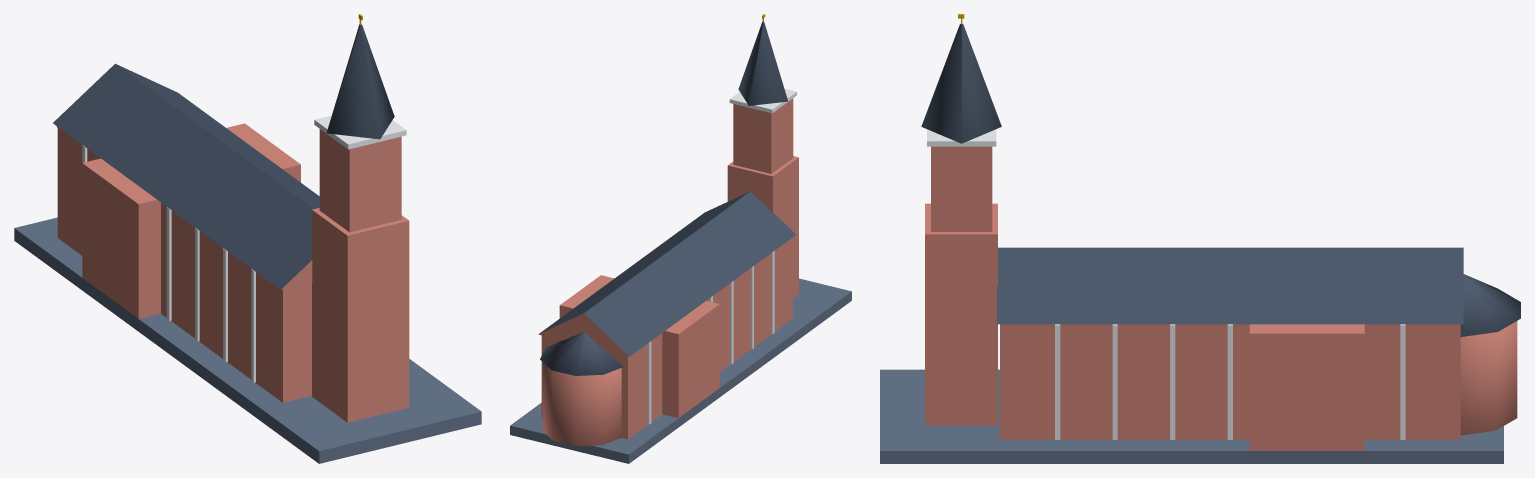
The model's file is lm_03_nha_tho_con_ga_base.glb.
3 renders of one model, left to right at view 1: azimuth 30°, elevation 25°; view 2: azimuth 150°, elevation 25°; view 3: azimuth 270°, elevation 25°, orthographic. The views are drawn at different scales.
Parts seen in each view (by area): view 1: nave_roof_slope_l, belfry_lower, nave_body, stone_plinth, transept_body, belfry_upper, belfry_spire, nave_roof_slope_r, belfry_cornice, pilaster_w_-4, pilaster_w_2, pilaster_w_8 (+1 smaller); view 2: nave_roof_slope_l, nave_body, stone_plinth, transept_body, apse_body, belfry_upper, belfry_lower, belfry_spire, apse_roof, nave_roof_slope_r, nave_roof_gable_b, belfry_cornice (+1 smaller); view 3: nave_body, nave_roof_slope_r, stone_plinth, transept_body, belfry_lower, apse_body, belfry_upper, belfry_spire, apse_roof, belfry_cornice, pilaster_e_-22, pilaster_e_-4 (+3 smaller).
Boxes of the visible parts, x1=… form: nave_roof_slope_l: x1=53, y1=63, x2=313, y2=289; belfry_lower: x1=312, y1=208, x2=409, y2=422; nave_body: x1=57, y1=127, x2=311, y2=402; stone_plinth: x1=14, y1=217, x2=481, y2=463; transept_body: x1=82, y1=123, x2=300, y2=318; belfry_upper: x1=319, y1=129, x2=401, y2=232; belfry_spire: x1=326, y1=24, x2=394, y2=139; nave_roof_slope_r: x1=116, y1=64, x2=319, y2=208; belfry_cornice: x1=314, y1=115, x2=406, y2=149; pilaster_w_-4: x1=166, y1=207, x2=171, y2=320; pilaster_w_2: x1=195, y1=227, x2=199, y2=341; pilaster_w_8: x1=223, y1=248, x2=227, y2=362; nave_roof_slope_l: x1=584, y1=191, x2=796, y2=356; nave_body: x1=541, y1=238, x2=792, y2=439; stone_plinth: x1=510, y1=278, x2=851, y2=463; transept_body: x1=559, y1=275, x2=719, y2=417; apse_body: x1=542, y1=362, x2=621, y2=446; belfry_upper: x1=733, y1=98, x2=793, y2=173; belfry_lower: x1=727, y1=156, x2=798, y2=298; belfry_spire: x1=738, y1=22, x2=788, y2=105; apse_roof: x1=540, y1=332, x2=623, y2=375; nave_roof_slope_r: x1=539, y1=192, x2=748, y2=333; nave_roof_gable_b: x1=538, y1=313, x2=628, y2=356; belfry_cornice: x1=729, y1=88, x2=796, y2=113; nave_body: x1=1000, y1=324, x2=1460, y2=439; nave_roof_slope_r: x1=997, y1=247, x2=1463, y2=324; stone_plinth: x1=880, y1=369, x2=1503, y2=463; transept_body: x1=1249, y1=324, x2=1364, y2=450; belfry_lower: x1=925, y1=203, x2=997, y2=425; apse_body: x1=1460, y1=321, x2=1517, y2=435; belfry_upper: x1=931, y1=146, x2=992, y2=231; belfry_spire: x1=921, y1=24, x2=1001, y2=143; apse_roof: x1=1460, y1=274, x2=1520, y2=336; belfry_cornice: x1=927, y1=129, x2=996, y2=146; pilaster_e_-22: x1=1400, y1=324, x2=1405, y2=439; pilaster_e_-4: x1=1227, y1=324, x2=1232, y2=439.
Bounding box in the file's own units: 20 × 47.03 × 66.78.
